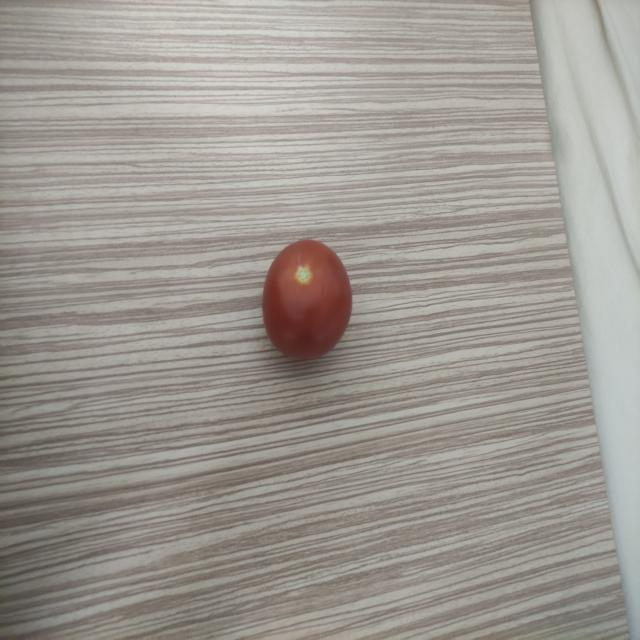kirmizi: (248, 225, 367, 383)
